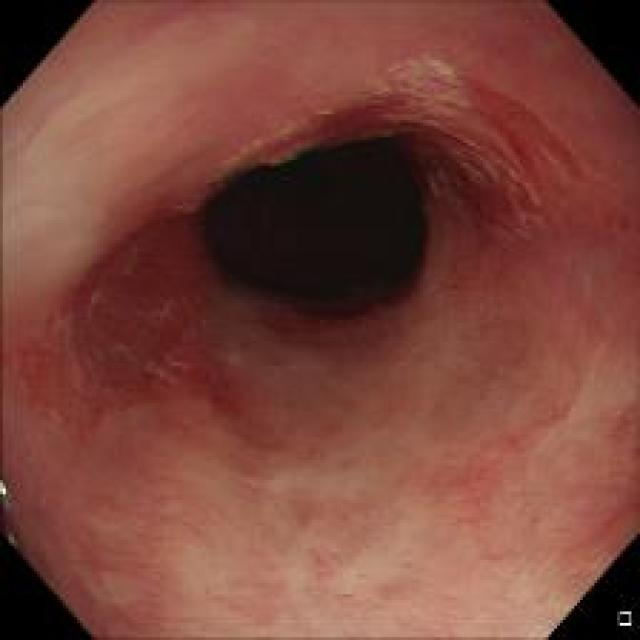color misalignment: (214, 118, 405, 170)
contrast: (176, 102, 451, 346)
